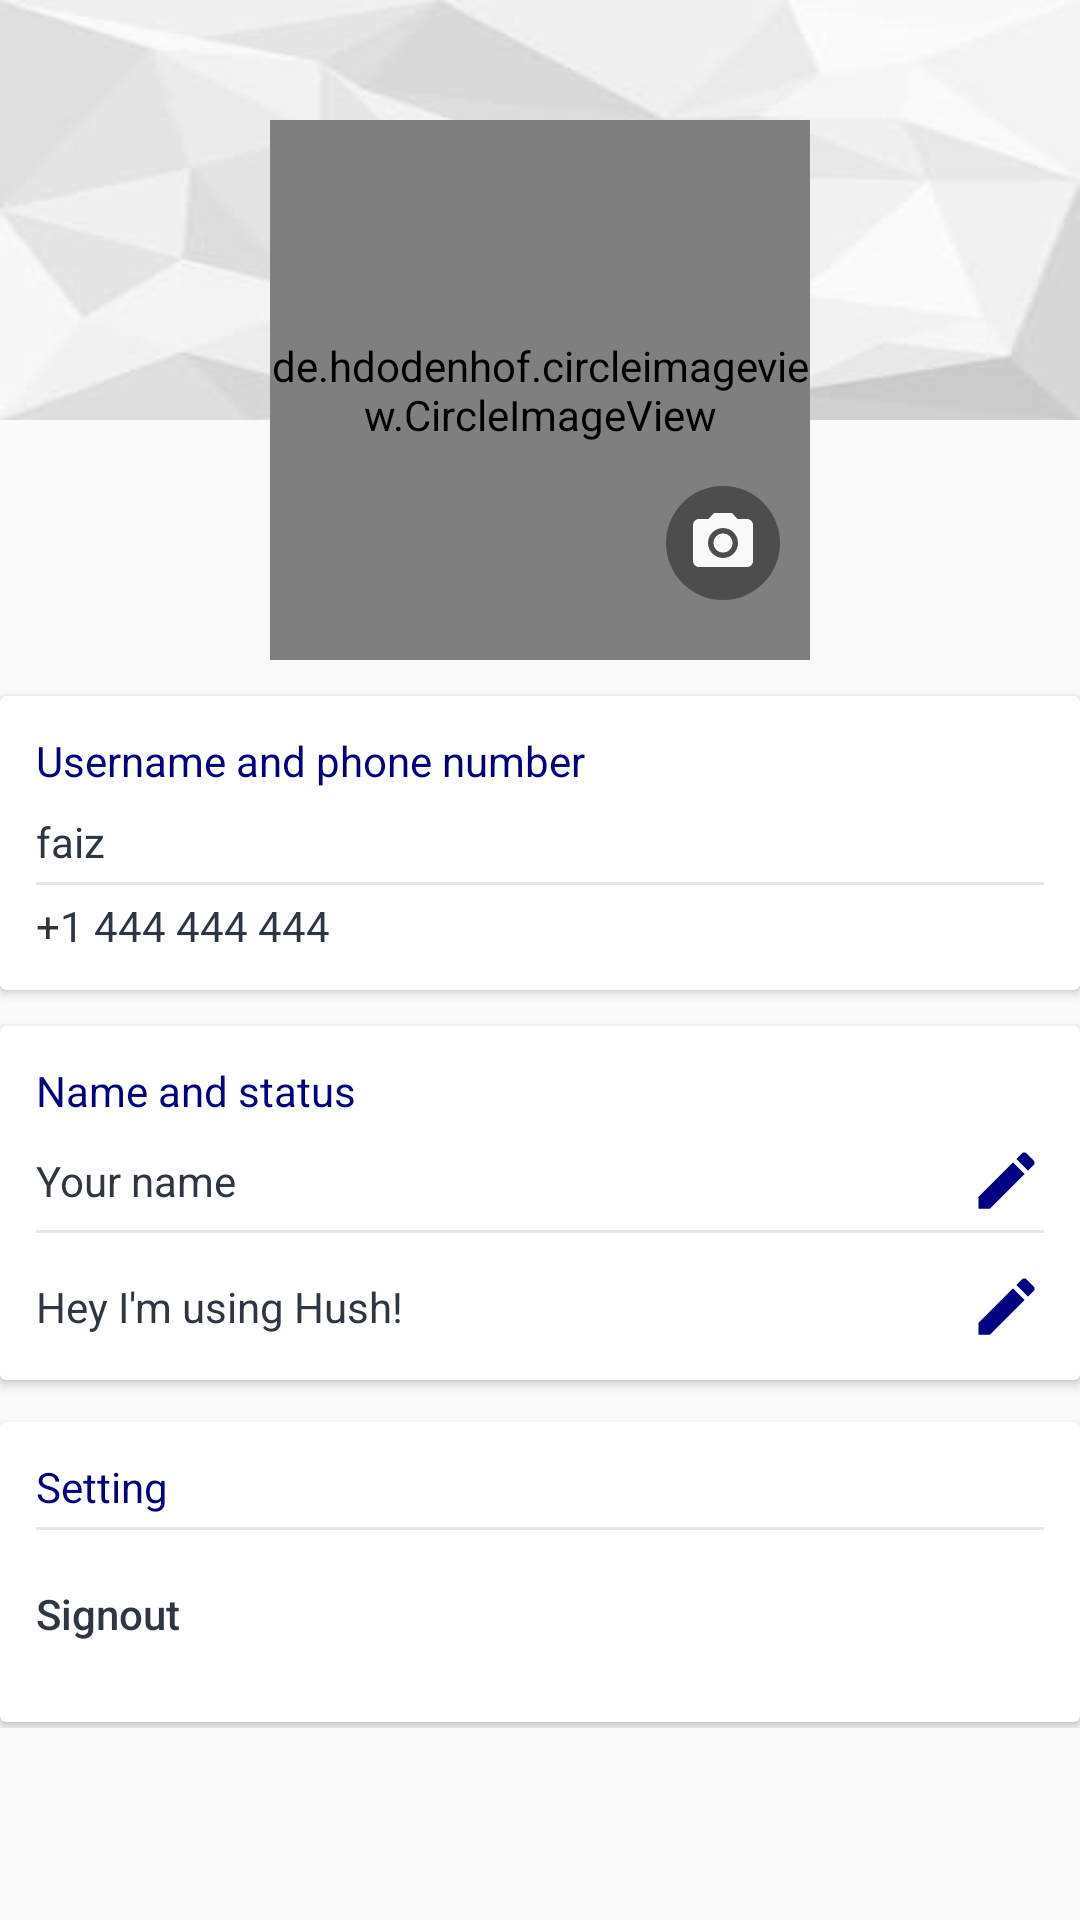

Icons on this 1080x1920 Android screen, each with its box as (x1, y1, x2, y2):
camera: (666, 486, 780, 600)
edit: (978, 1152, 1035, 1209), (978, 1278, 1035, 1335)
